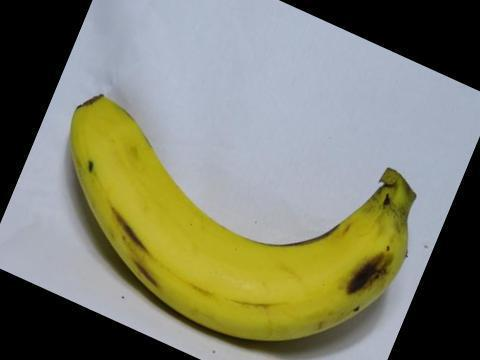freshripe: (59, 86, 433, 359)
